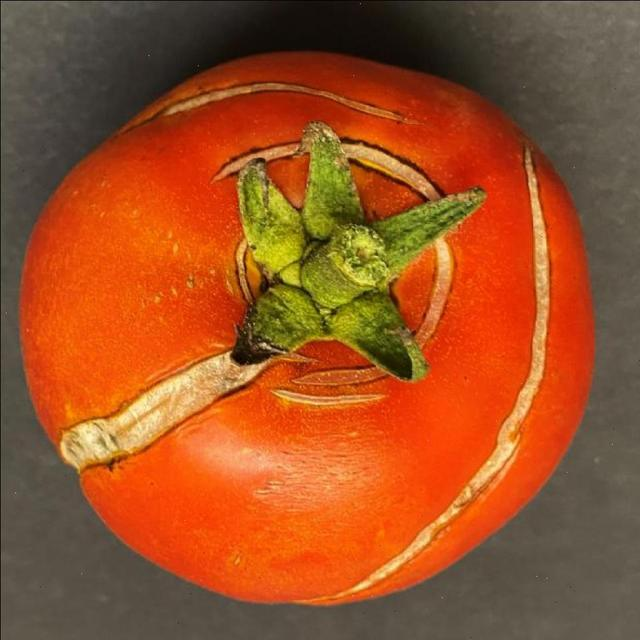Cracking Fruit: (116, 28, 289, 305)
